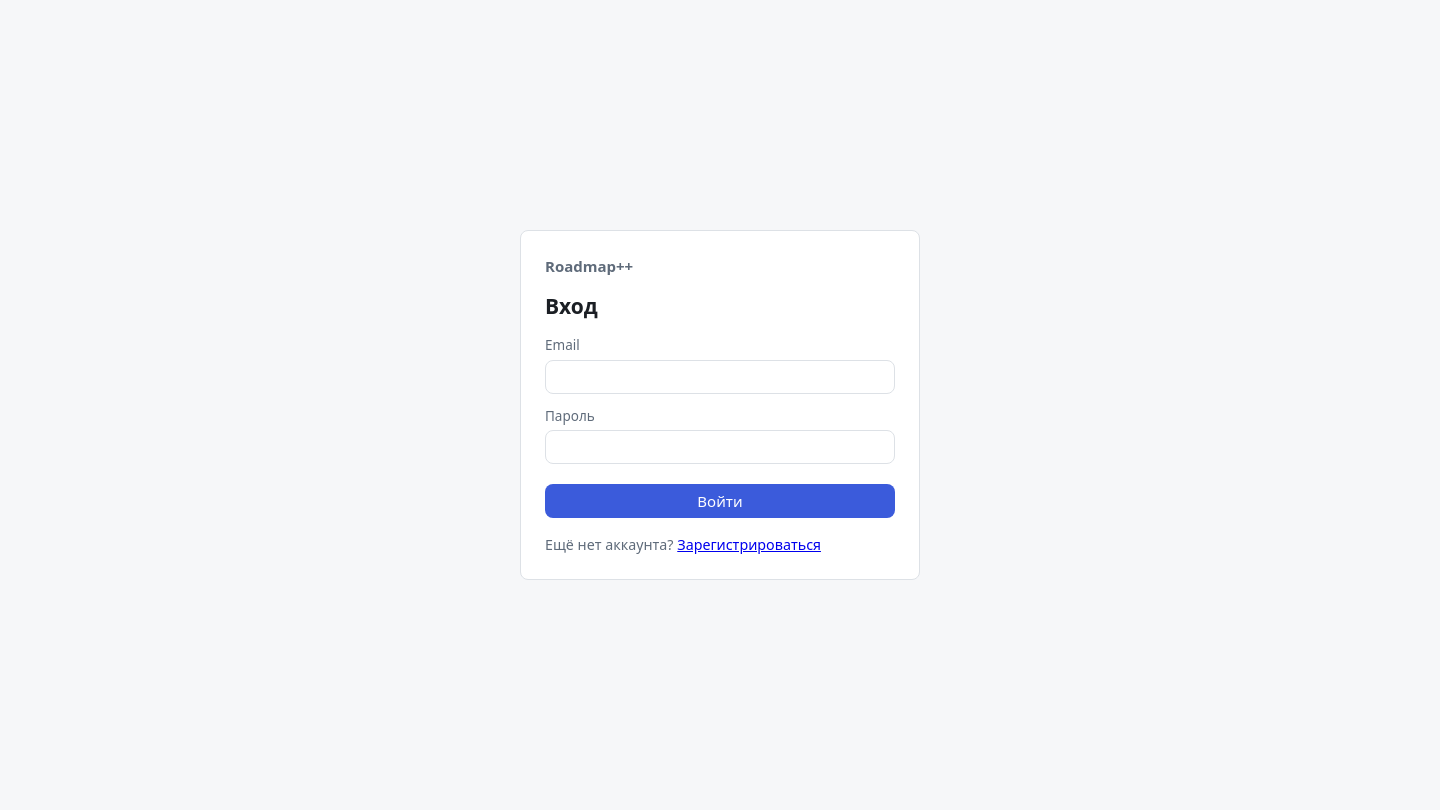
Scenario: routes › sends a guest to the login page and back after signing in
Expected: the heading "Вход" is shown, [545,292,598,320]
Type "yaroslav@example.com" into the field labelled "Email" at (720, 377), box [545,360,895,394]
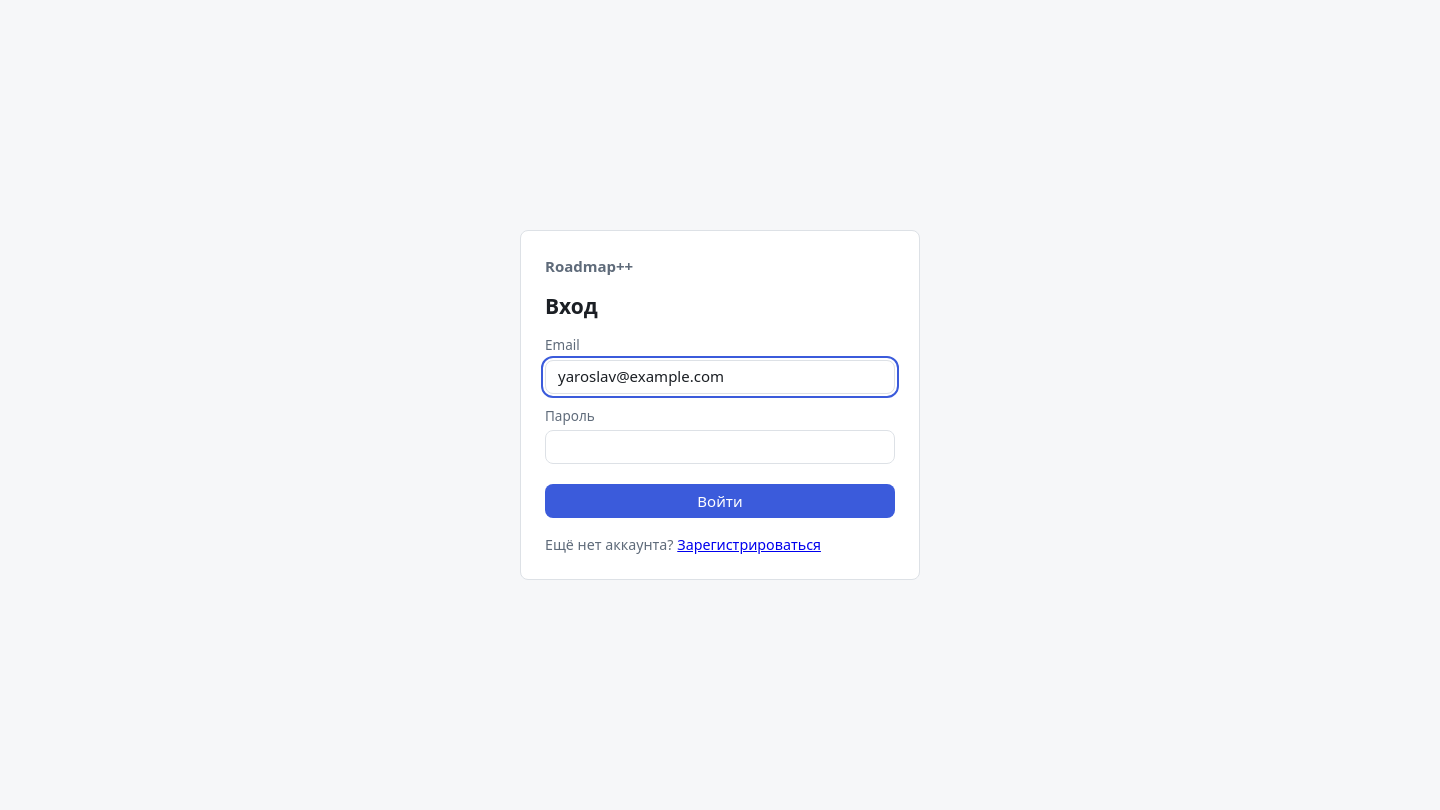
Type "correct horse" into the password field labelled "Пароль" at (720, 447), box [545,430,895,464]
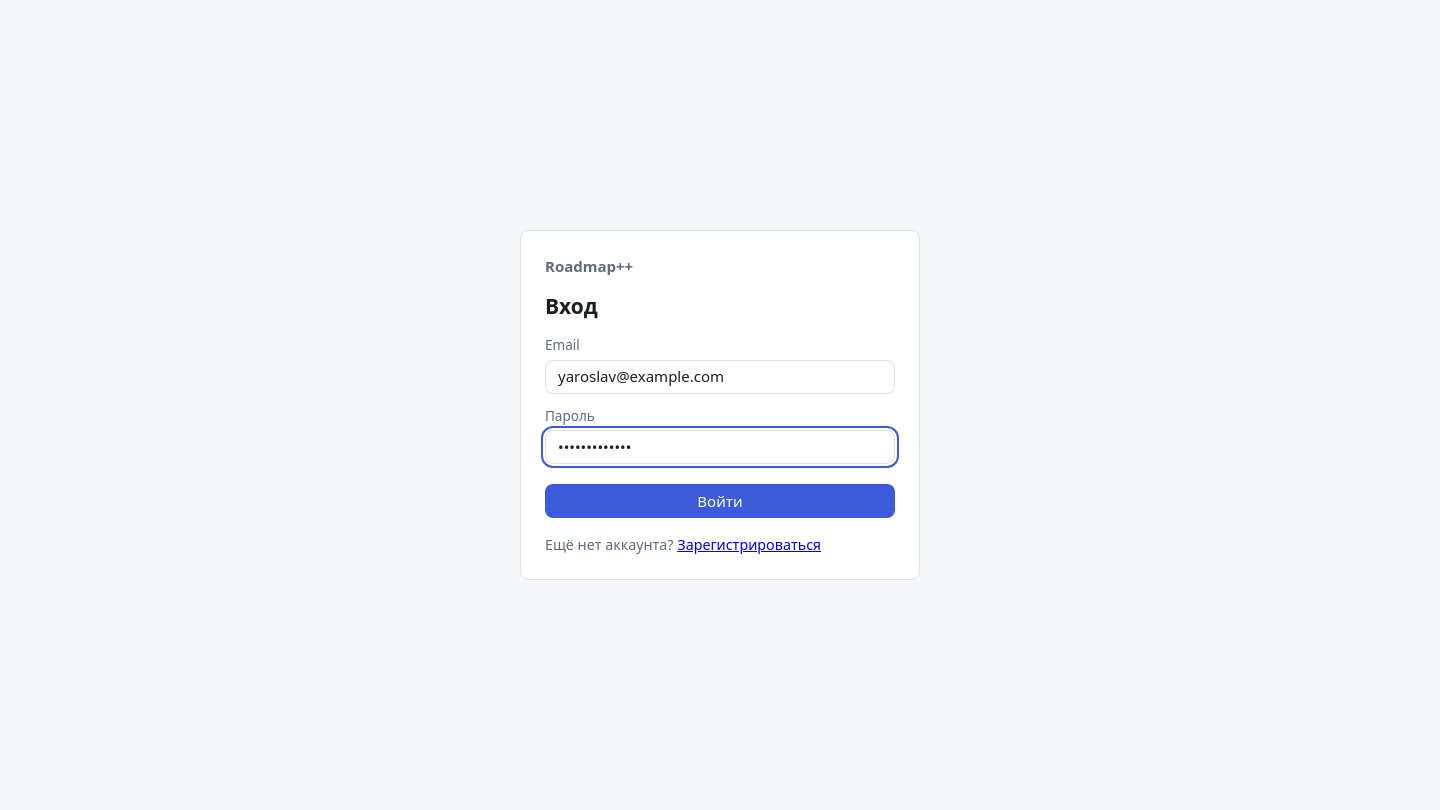
Click the button "Войти" at (720, 501), box [545,484,895,518]
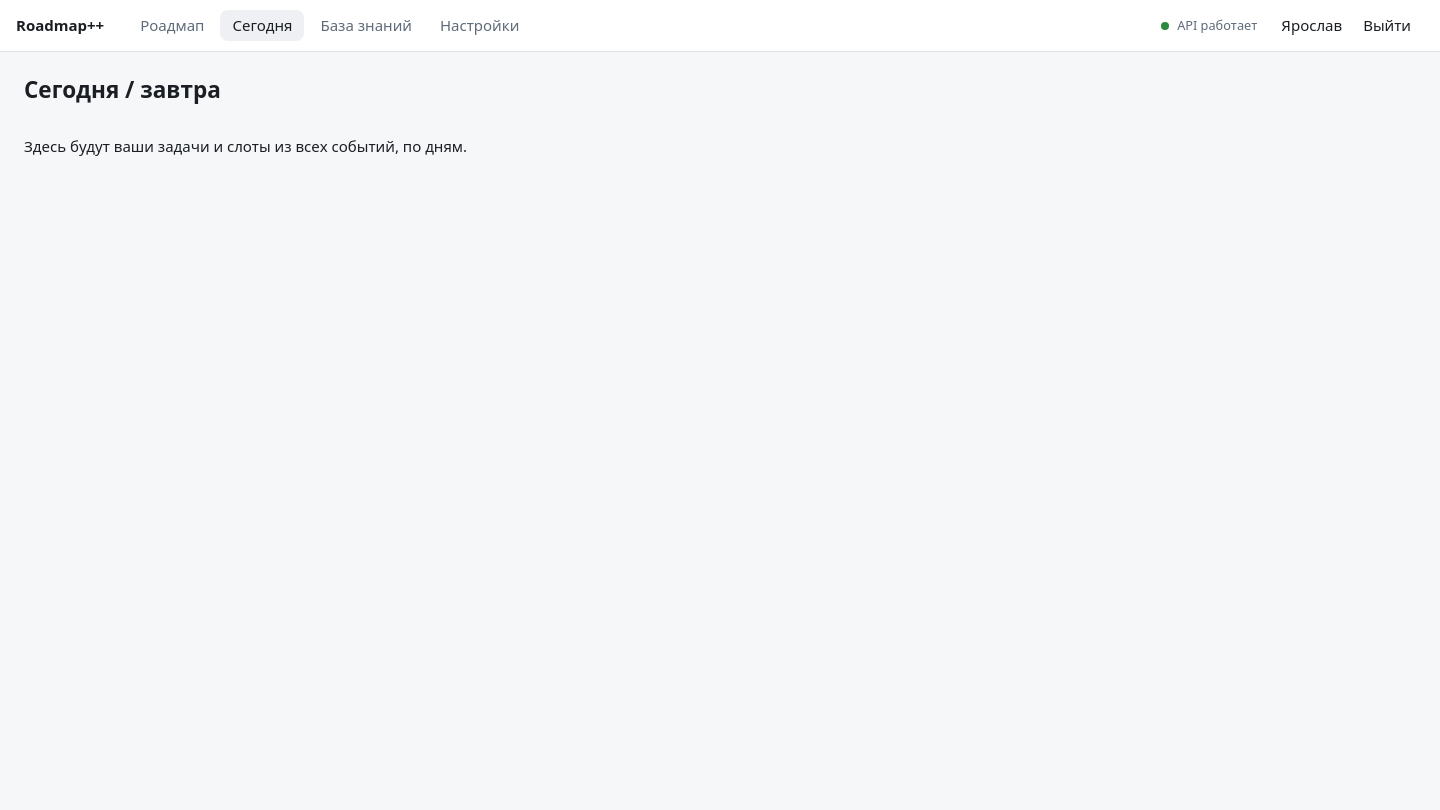
Expected: the heading "Сегодня / завтра" is shown, [24,74,221,105]
